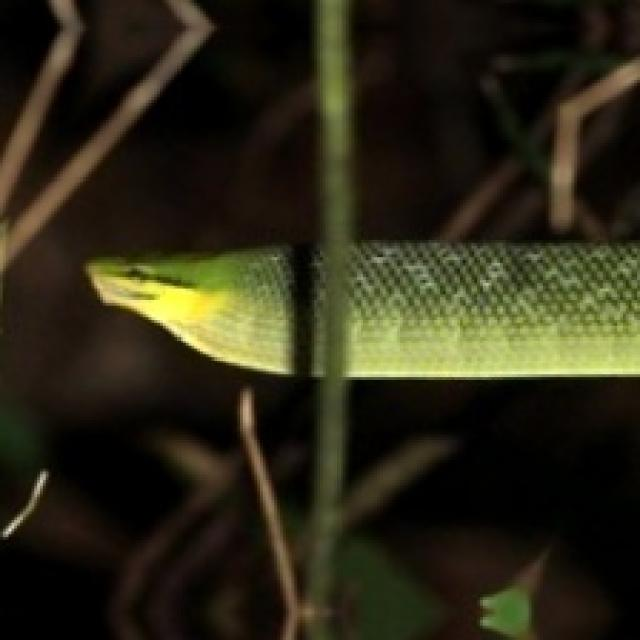red-tailed green ratsnake: (349, 243, 637, 374), (86, 246, 294, 371)
